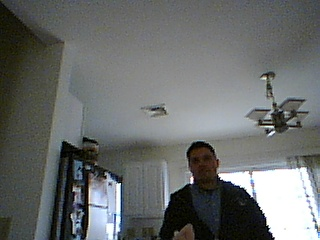piggy: (170, 223, 197, 240)
